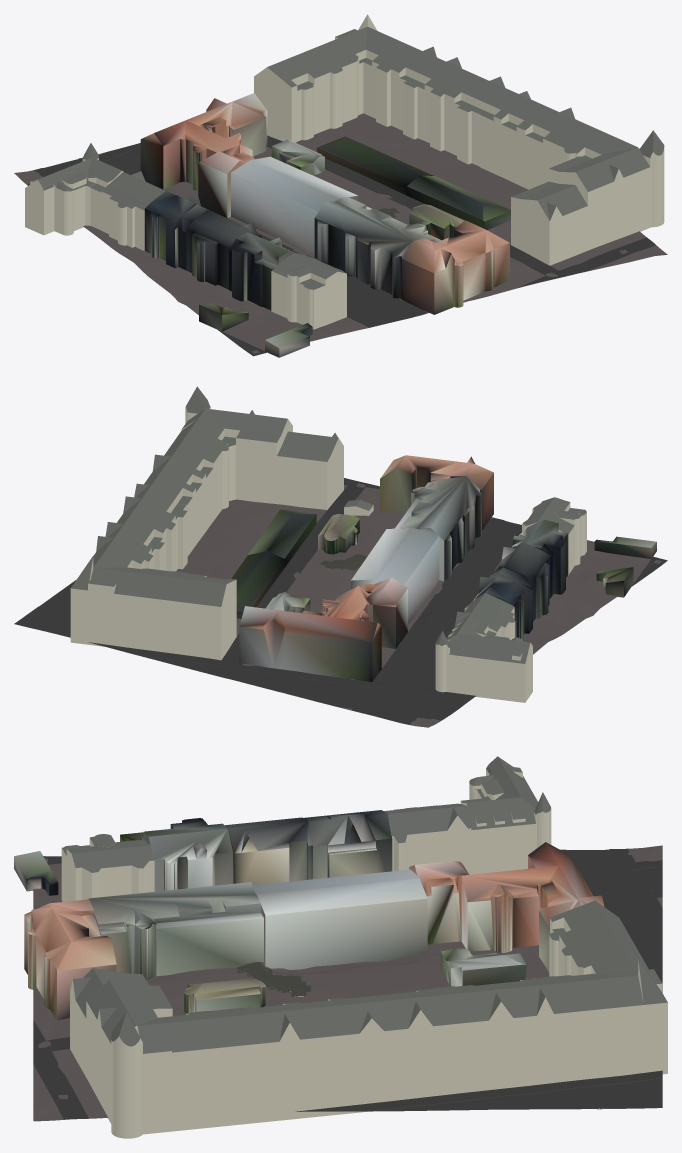
3 views of the same model, one above another, from view 1: azimuth 30°, elevation 25°; view 2: azimuth 150°, elevation 25°; view 3: azimuth 270°, elevation 25° (orthographic). The views are drawn at different scales.
Visible parts, largest first — view 1: c_m04_p11; view 2: c_m04_p11; view 3: c_m04_p11.
Part boxes in pixels (left/top/right/bottom): c_m04_p11: left=14, top=14, right=667, bottom=357; c_m04_p11: left=14, top=386, right=667, bottom=727; c_m04_p11: left=14, top=756, right=667, bottom=1138.
Bounding box in the file's own units: 151 × 27.92 × 133.
